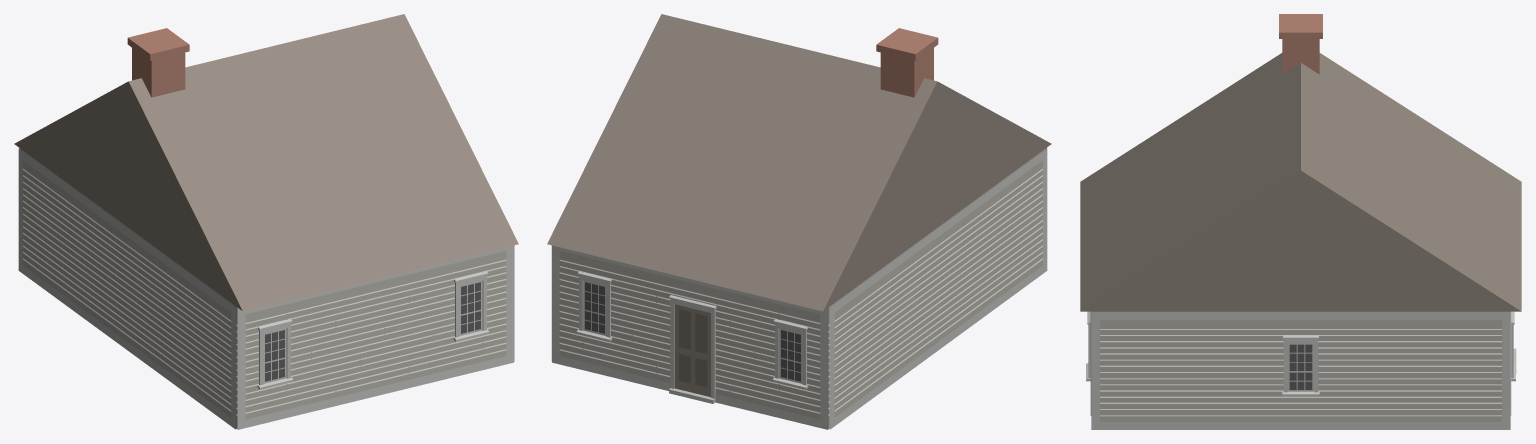
The model's file is recon_1835_blk_school_section_tier_95_d5_01__inferred_1835.glb.
The picture shows the model from 3 angles, left to right: view 1: azimuth 30°, elevation 25°; view 2: azimuth 150°, elevation 25°; view 3: azimuth 270°, elevation 25°; orthographic projection. The views are drawn at different scales.
Parts seen in each view (by area): view 1: recon_1835_blk_school_section_tier_95_d5_01__inferred_1835; view 2: recon_1835_blk_school_section_tier_95_d5_01__inferred_1835; view 3: recon_1835_blk_school_section_tier_95_d5_01__inferred_1835.
Part boxes in pixels (x1=…): recon_1835_blk_school_section_tier_95_d5_01__inferred_1835: x1=14, y1=14, x2=518, y2=429; recon_1835_blk_school_section_tier_95_d5_01__inferred_1835: x1=547, y1=14, x2=1051, y2=429; recon_1835_blk_school_section_tier_95_d5_01__inferred_1835: x1=1080, y1=14, x2=1521, y2=429.
Bounding box in the file's own units: 7.02 × 7.16 × 9.87.
